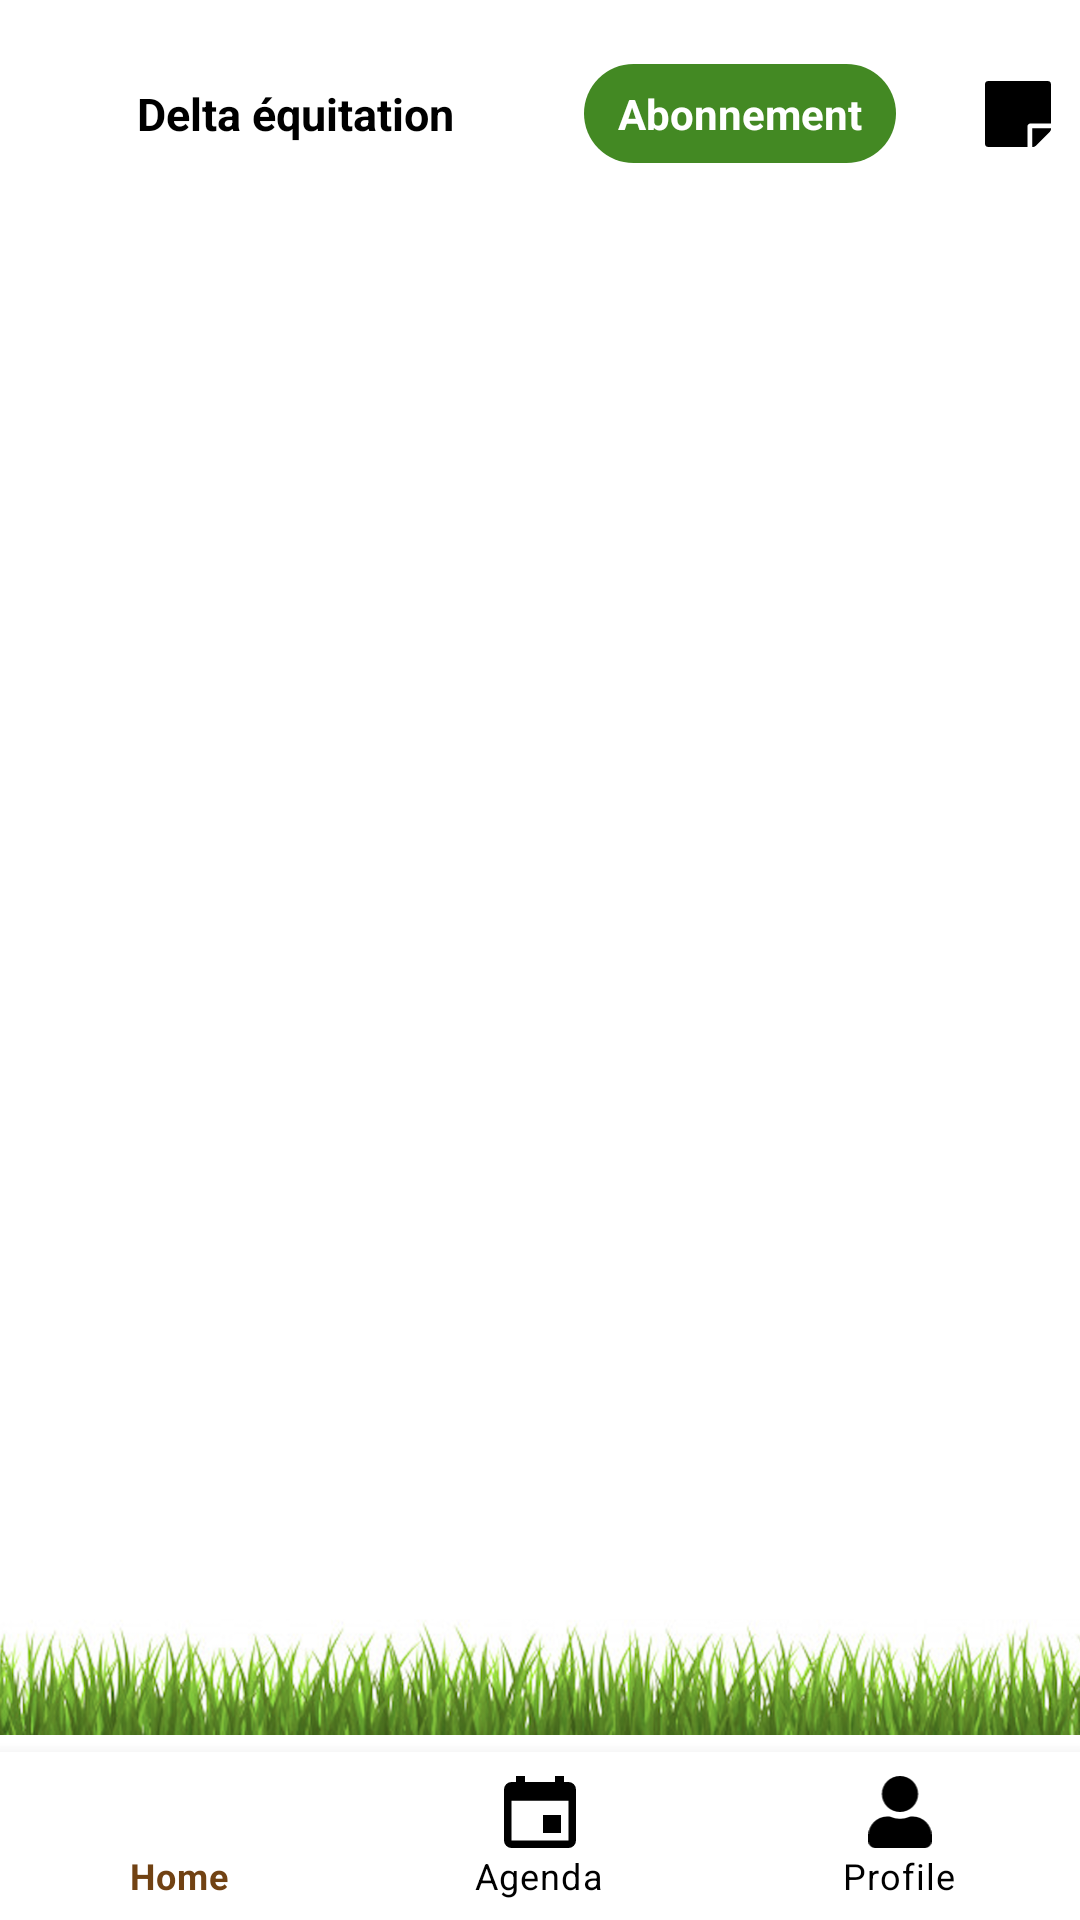

Icons on this 1080*1920 Android screen, each with its box as [x1, y1, x2, y2]:
note: [985, 81, 1051, 147]
